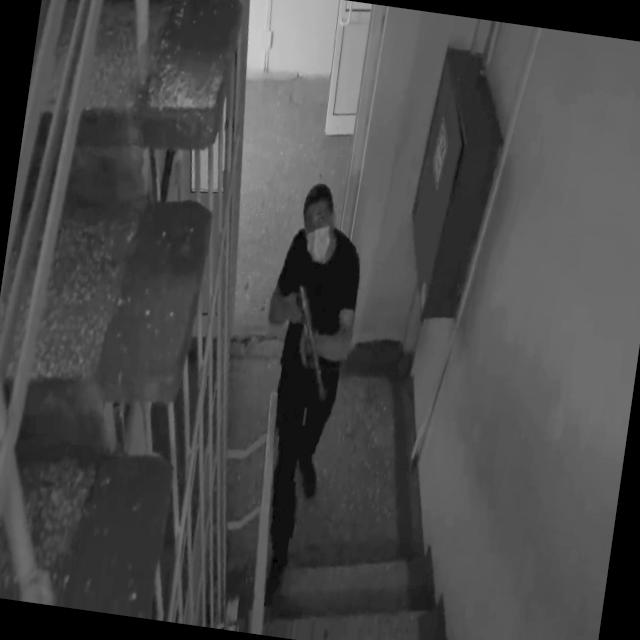gun: (280, 279, 342, 405)
person with a gun: (230, 178, 373, 600)
